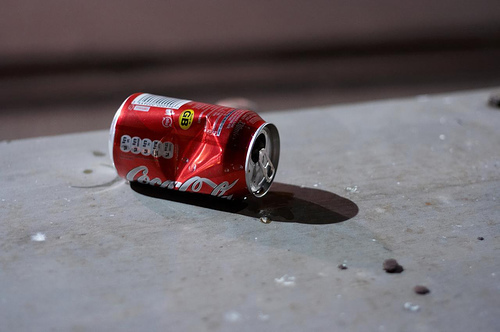litter: (107, 92, 281, 200)
